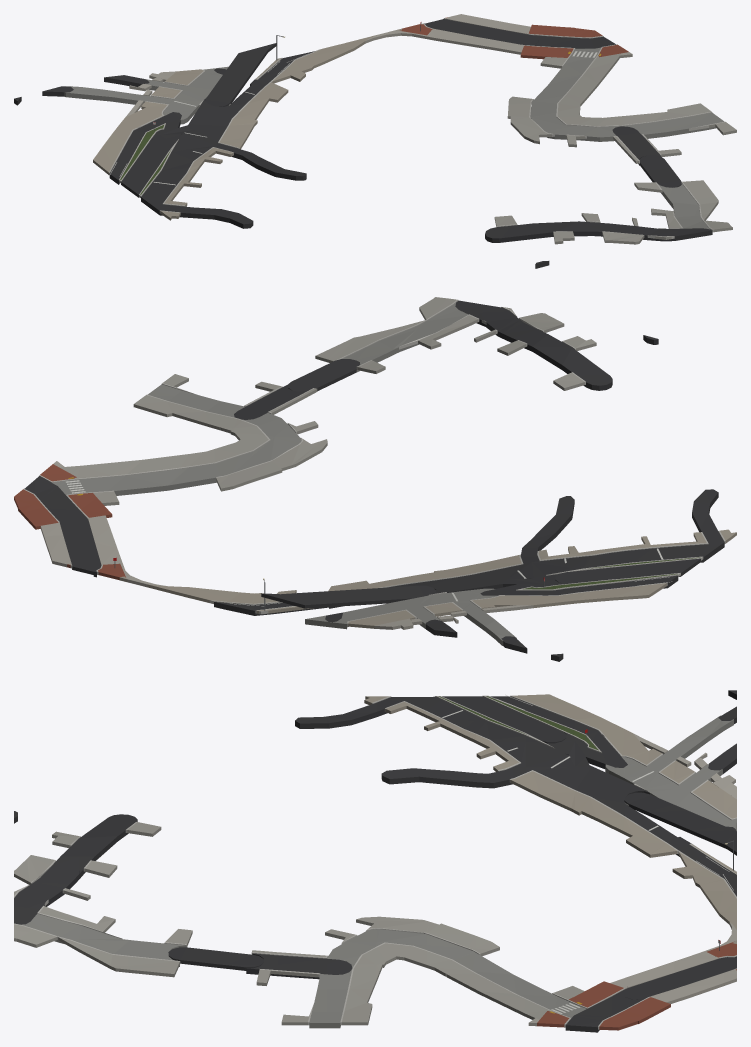
3 renders of one model, top to bottom at view 1: azimuth 30°, elevation 25°; view 2: azimuth 150°, elevation 25°; view 3: azimuth 270°, elevation 25°, orthographic. The views are drawn at different scales.
Bounding box in the file's own units: 147 × 9.5 × 146.
